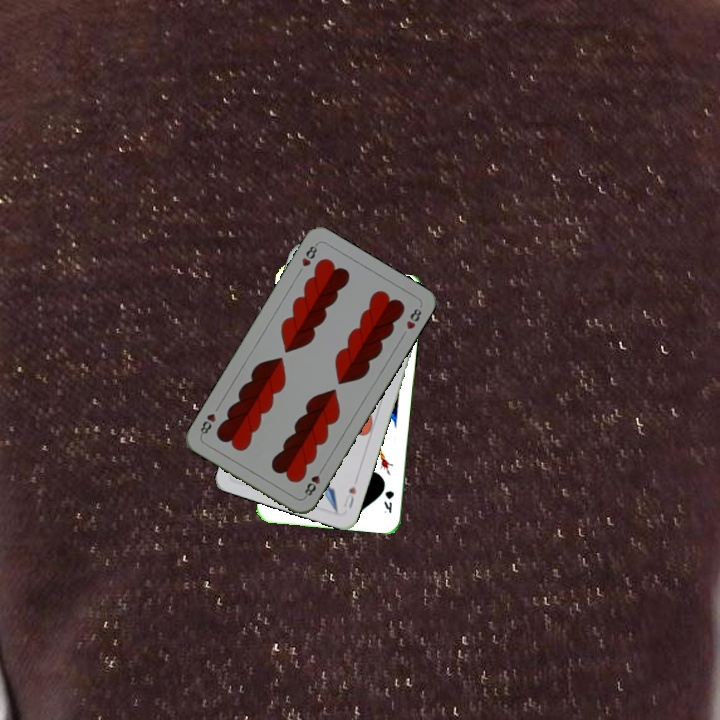GK: (379, 487, 396, 516)
H8: (300, 463, 326, 500), (297, 240, 320, 269)
HU: (339, 482, 359, 511)
